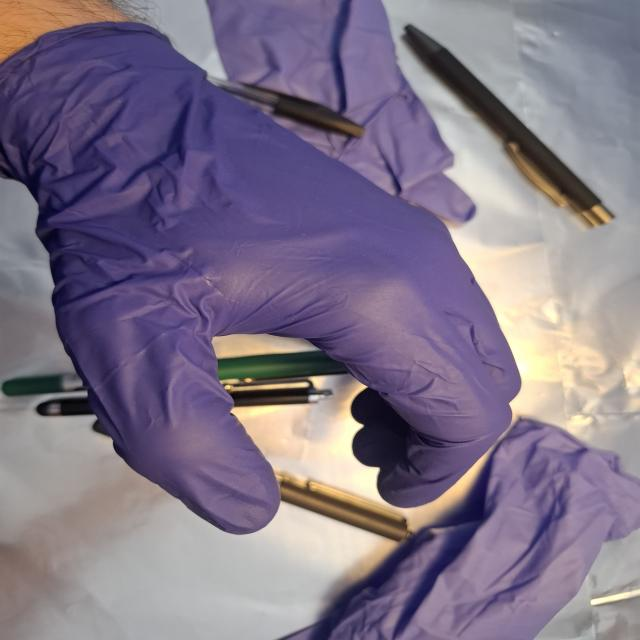glove_on: (0, 19, 528, 540)
